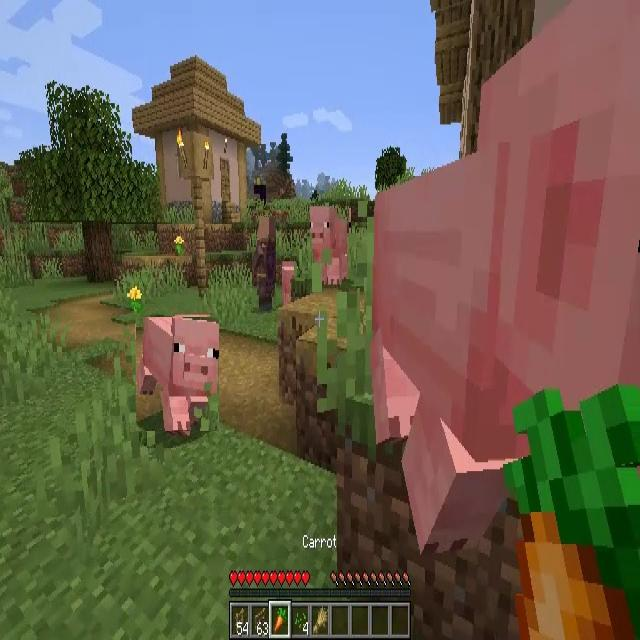people: (252, 216, 276, 311)
pig: (374, 0, 640, 554), (136, 317, 219, 431), (310, 206, 349, 292), (282, 262, 298, 306)
